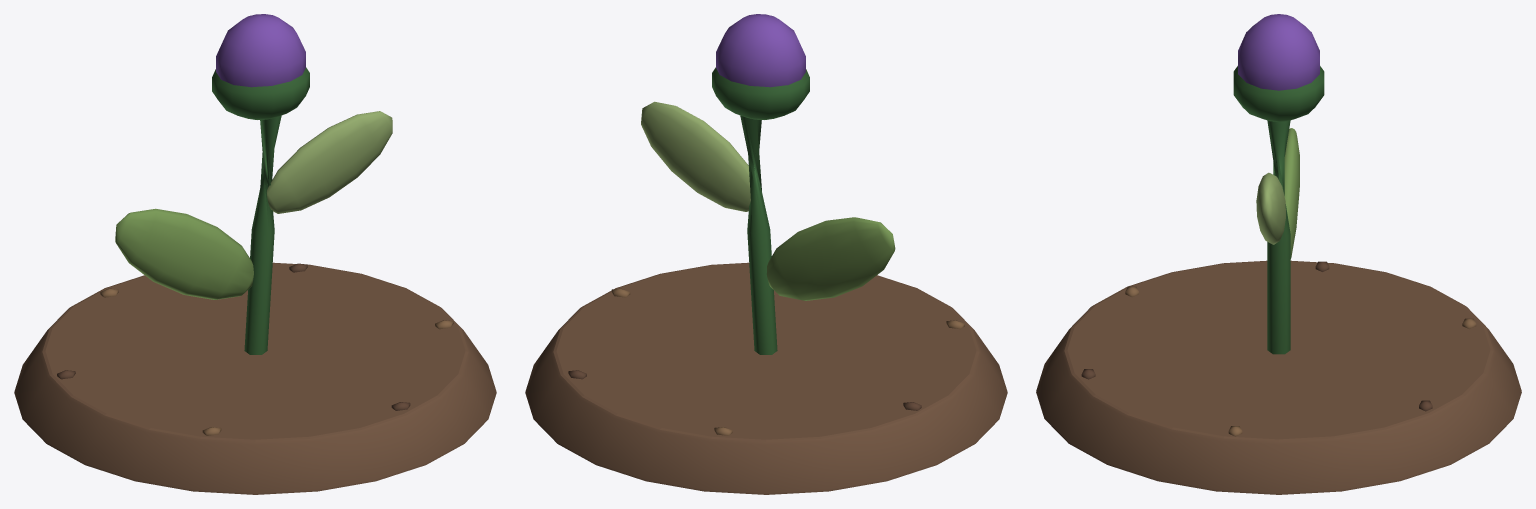
File: flower_stage2_purple.glb
3 renders of one model, left to right at view 1: azimuth 30°, elevation 25°; view 2: azimuth 150°, elevation 25°; view 3: azimuth 270°, elevation 25°, orthographic.
Bounding box in the file's own units: 0.3775 × 0.324 × 0.3775.
